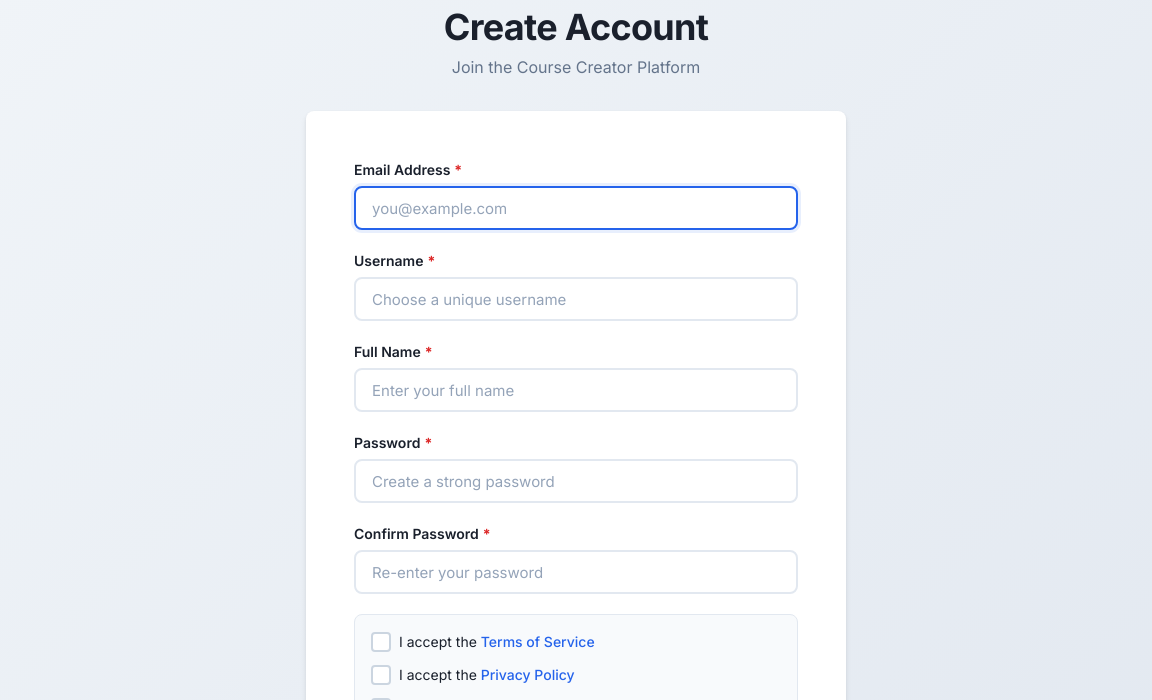
Test case: RegistrationPage Component › Form Validation - Username › shows error when username is too short
The width and height of the screenshot is (1152, 700).
Type "ab" into the field labelled "Username*".
click(576, 299); type("ab")  # box [354, 277, 798, 321]
(page scrolled)
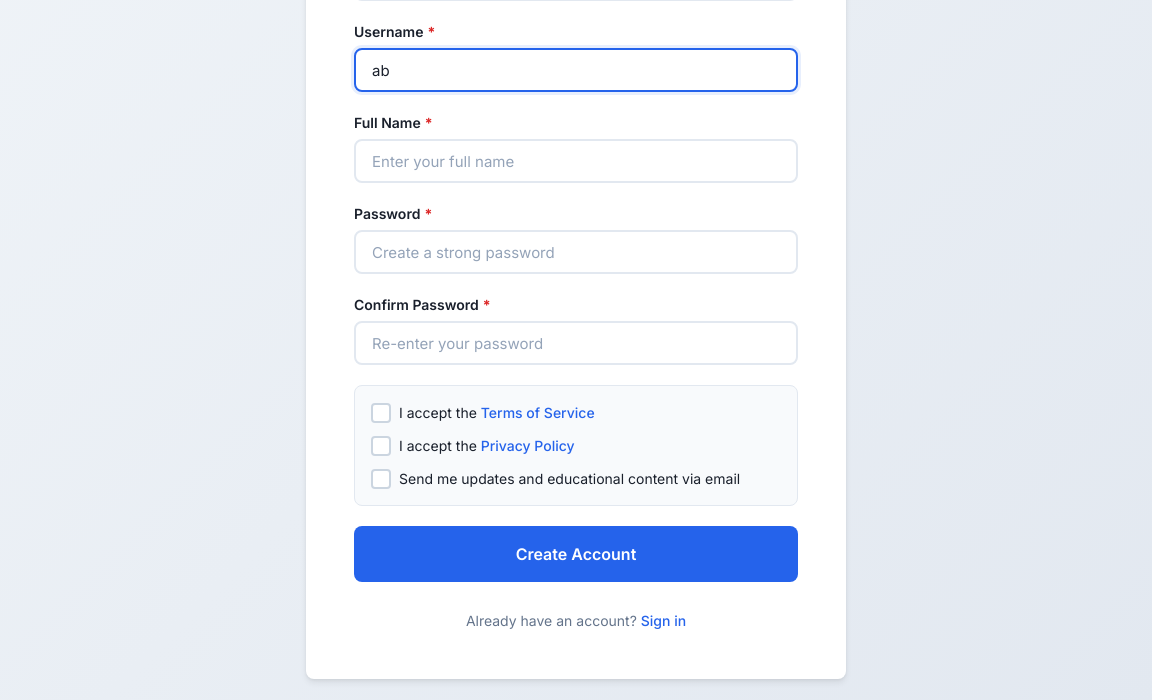
Click the button "Create Account".
click(576, 554)  # box [354, 526, 798, 582]
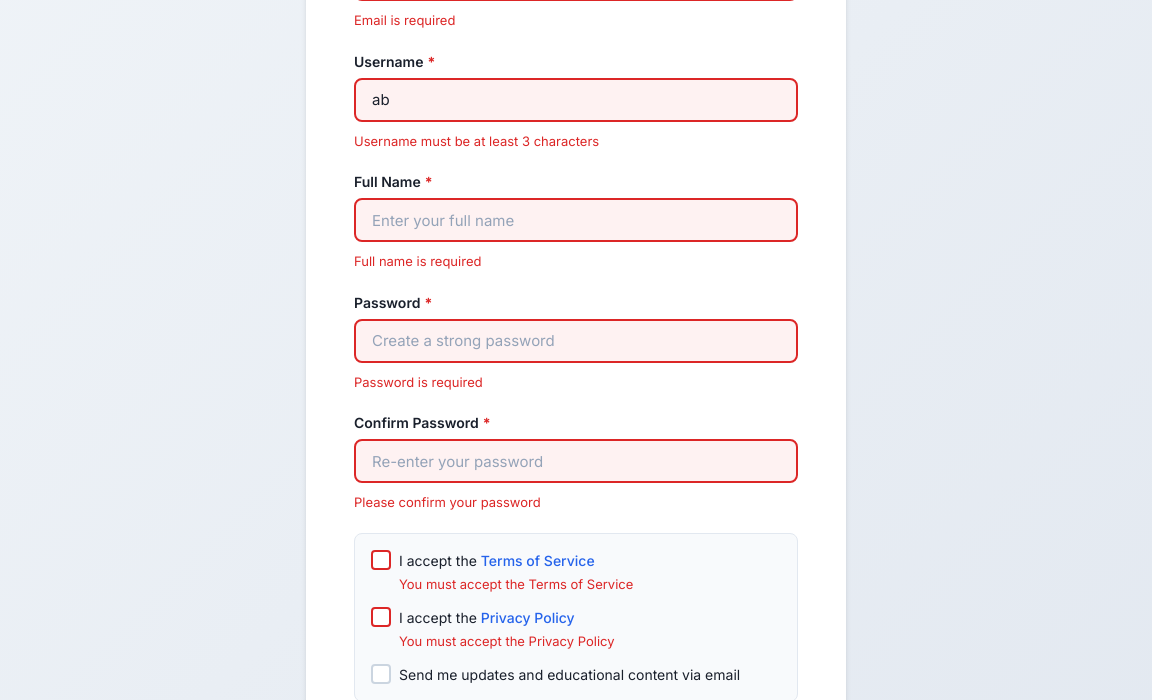
Check: the text "Username must be at least 3 characters" is shown, box [354, 132, 599, 148]
